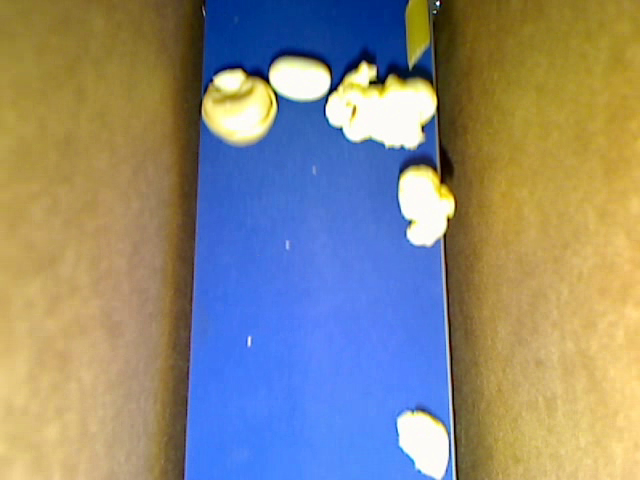penne: (405, 1, 430, 72)
tortellini: (200, 76, 279, 147)
